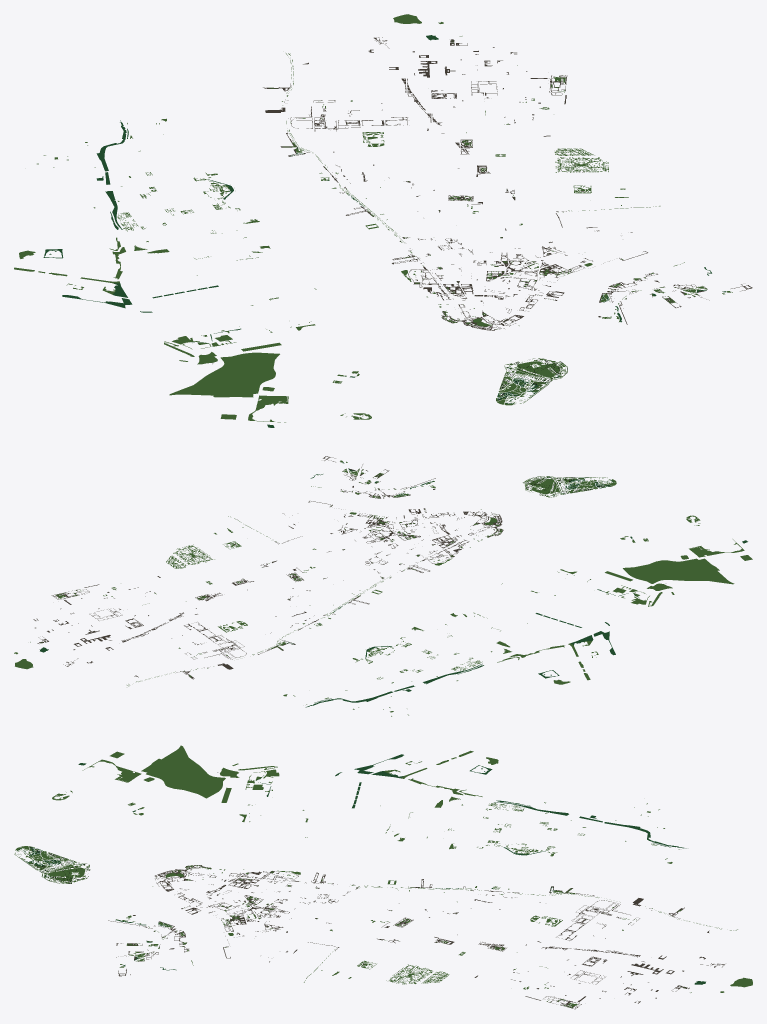
File: HudsonGreenery.glb
The picture shows the model from 3 angles, top to bottom: view 1: azimuth 30°, elevation 25°; view 2: azimuth 150°, elevation 25°; view 3: azimuth 270°, elevation 25°; orthographic projection. The views are drawn at different scales.
Parts seen in each view (by area): view 1: map_48osm_areas_pedestrian, map_6osm_vegetation, map_48osm_vegetation, map_44osm_vegetation, map_44osm_forest; view 2: map_48osm_areas_pedestrian, map_6osm_vegetation, map_48osm_vegetation, map_44osm_vegetation, map_44osm_forest; view 3: map_48osm_areas_pedestrian, map_6osm_vegetation, map_48osm_vegetation, map_44osm_vegetation, map_44osm_forest.
Part boxes in pixels (left/top/right/bottom): map_48osm_areas_pedestrian: left=263, top=37, right=752, bottom=330; map_6osm_vegetation: left=169, top=261, right=567, bottom=422; map_48osm_vegetation: left=269, top=14, right=732, bottom=326; map_44osm_vegetation: left=14, top=118, right=316, bottom=361; map_44osm_forest: left=43, top=120, right=240, bottom=343; map_48osm_areas_pedestrian: left=33, top=456, right=503, bottom=679; map_6osm_vegetation: left=377, top=476, right=752, bottom=590; map_48osm_vegetation: left=14, top=460, right=502, bottom=686; map_44osm_vegetation: left=283, top=571, right=674, bottom=716; map_44osm_forest: left=305, top=589, right=639, bottom=707; map_48osm_areas_pedestrian: left=108, top=865, right=724, bottom=1009; map_6osm_vegetation: left=14, top=745, right=300, bottom=911; map_48osm_vegetation: left=116, top=865, right=752, bottom=1007; map_44osm_vegetation: left=232, top=750, right=679, bottom=863; map_44osm_forest: left=256, top=754, right=686, bottom=855.
Size of the model in its own units: 837 by 0.01 by 990.
